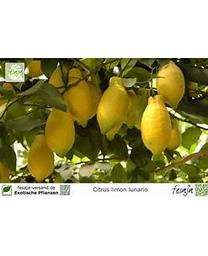lemon: (143, 96, 171, 157), (99, 78, 130, 133), (68, 67, 96, 123), (156, 60, 186, 108), (45, 108, 74, 155), (29, 133, 55, 179)
